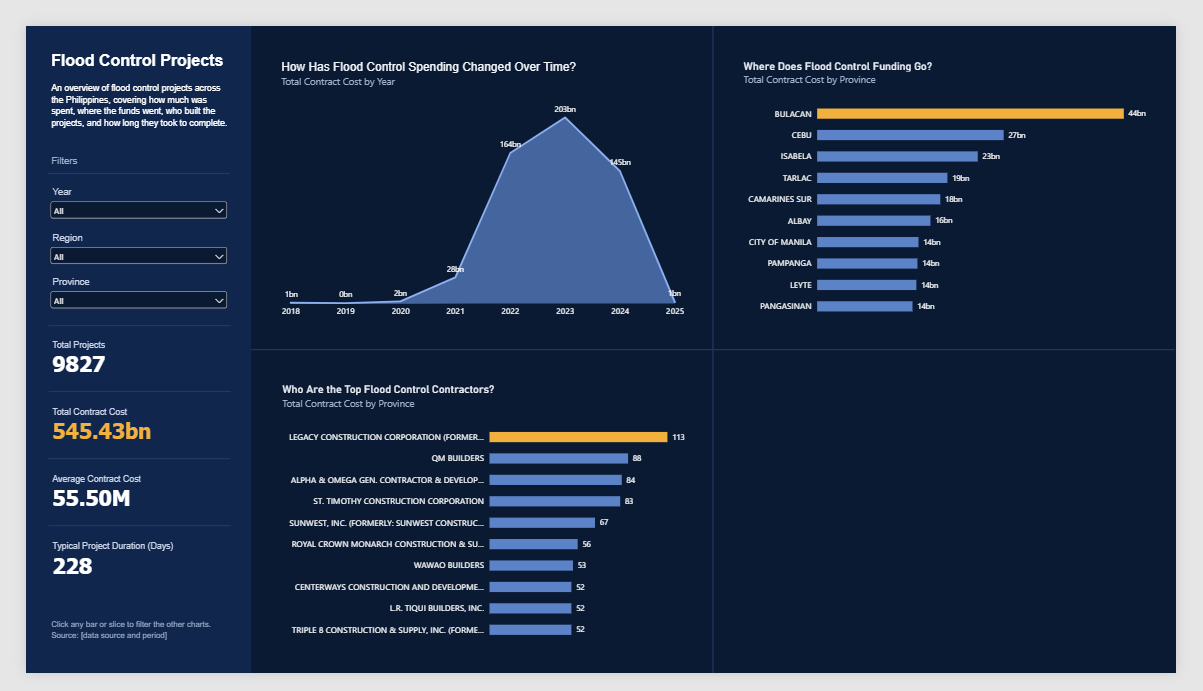

The dashboard page shown, as its layout file describes it:
{"tool":"powerbi","page":{"name":"Page 1","canvas":[1920,1080],"ordinal":0},"visuals":[{"type":"shape","box":[376.4,0,1541.8,1080],"z":0},{"type":"shape","box":[0,0,376.4,1080],"z":1000},{"type":"cardVisual","fields":{"Data":["Count(flood_control.ProjectID)"]},"box":[26.4,581.8,322.5,96.2],"z":2000},{"type":"clusteredBarChart","title":"Where Does Flood Control Funding Go?","fields":{"Category":["flood_control.Province"],"Y":["Sum(flood_control.ContractCost)"]},"box":[1182,42,704,458],"z":3000},{"type":"shape","box":[37.3,556.4,304.3,36.4],"z":4000},{"type":"slicer","fields":{"Values":["flood_control.InfraYear"]},"box":[35.6,267.2,304.9,65],"z":5000},{"type":"shape","box":[38,660,304.3,36.4],"z":6000},{"type":"cardVisual","fields":{"Data":["Sum(flood_control.ContractCost)"]},"box":[27.3,679.1,322.5,96.2],"z":7000},{"type":"textbox","box":[41.4,41.4,303.1,53.8],"z":8000},{"type":"shape","box":[37.8,757.8,304.3,36.4],"z":9000},{"type":"slicer","fields":{"Values":["flood_control.Region"]},"box":[35.6,342.3,304.9,65],"z":10000},{"type":"cardVisual","fields":{"Data":["Avg(flood_control.ContractCost)"]},"box":[28.2,775.5,322.5,96.2],"z":11000},{"type":"shape","box":[36.7,852.2,304.3,36.4],"z":12000},{"type":"slicer","fields":{"Values":["flood_control.Province"]},"box":[35.6,416.3,304.9,65],"z":13000},{"type":"slicer","fields":{"Values":["flood_control.TypeofWork"]},"box":[36.4,490.9,304.9,65],"z":14000},{"type":"textbox","box":[41.8,94.5,296.4,127.3],"z":15000},{"type":"cardVisual","fields":{"Data":["Median(flood_control.DurationDays)"]},"box":[28.6,870,322.5,96.2],"z":16000},{"type":"textbox","box":[41.8,989.1,301.8,61.8],"z":17000},{"type":"textbox","box":[41.4,217,303,44],"z":18000},{"type":"shape","box":[36.7,228.7,304.3,36.4],"z":19000},{"type":"shape","box":[376.4,523.6,1541.8,32.7],"z":20000},{"type":"areaChart","title":"How Has Flood Control Spending Changed Over Time?","fields":{"Category":["Year Axis.InfraYear"],"Y":["flood_control.Spend Up To Selected Year"]},"box":[410.9,41.8,705.5,465.5],"z":21000},{"type":"clusteredBarChart","title":"Who Are the Top Flood Control Contractors? ","fields":{"Category":["flood_control.Contractor"],"Y":["Count(flood_control.ContractID)"]},"box":[412,583.4,702.9,465.7],"z":22000},{"type":"donutChart","title":"Are Flood Control Projects Finished on Time?","fields":{"Category":["flood_control.Completion Status"],"Y":["CountNonNull(flood_control.ProjectID)"]},"box":[1182,582,704,450],"z":23000}]}

Visuals, with their boxes in screenshot pixels (x1, y1, x2, y2), scaled from the page's 1920x1080 canvas onto the 1203x691 screenshot:
shape: <region>236, 0, 1202, 690</region>
shape: <region>0, 0, 236, 690</region>
cardVisual - Count(flood_control.ProjectID): <region>17, 372, 219, 434</region>
"Where Does Flood Control Funding Go?" clusteredBarChart: <region>741, 27, 1182, 320</region>
shape: <region>23, 356, 214, 379</region>
slicer - flood_control.InfraYear: <region>22, 171, 213, 213</region>
shape: <region>24, 422, 214, 446</region>
cardVisual - Sum(flood_control.ContractCost): <region>17, 434, 219, 496</region>
textbox: <region>26, 26, 216, 61</region>
shape: <region>24, 485, 214, 508</region>
slicer - flood_control.Region: <region>22, 219, 213, 261</region>
cardVisual - Avg(flood_control.ContractCost): <region>18, 496, 220, 558</region>
shape: <region>23, 545, 214, 569</region>
slicer - flood_control.Province: <region>22, 266, 213, 308</region>
slicer - flood_control.TypeofWork: <region>23, 314, 214, 356</region>
textbox: <region>26, 60, 212, 142</region>
cardVisual - Median(flood_control.DurationDays): <region>18, 557, 220, 618</region>
textbox: <region>26, 633, 215, 672</region>
textbox: <region>26, 139, 216, 167</region>
shape: <region>23, 146, 214, 170</region>
shape: <region>236, 335, 1202, 356</region>
"How Has Flood Control Spending Changed Over Time?" areaChart: <region>257, 27, 699, 325</region>
"Who Are the Top Flood Control Contractors? " clusteredBarChart: <region>258, 373, 699, 671</region>
"Are Flood Control Projects Finished on Time?" donutChart: <region>741, 372, 1182, 660</region>
